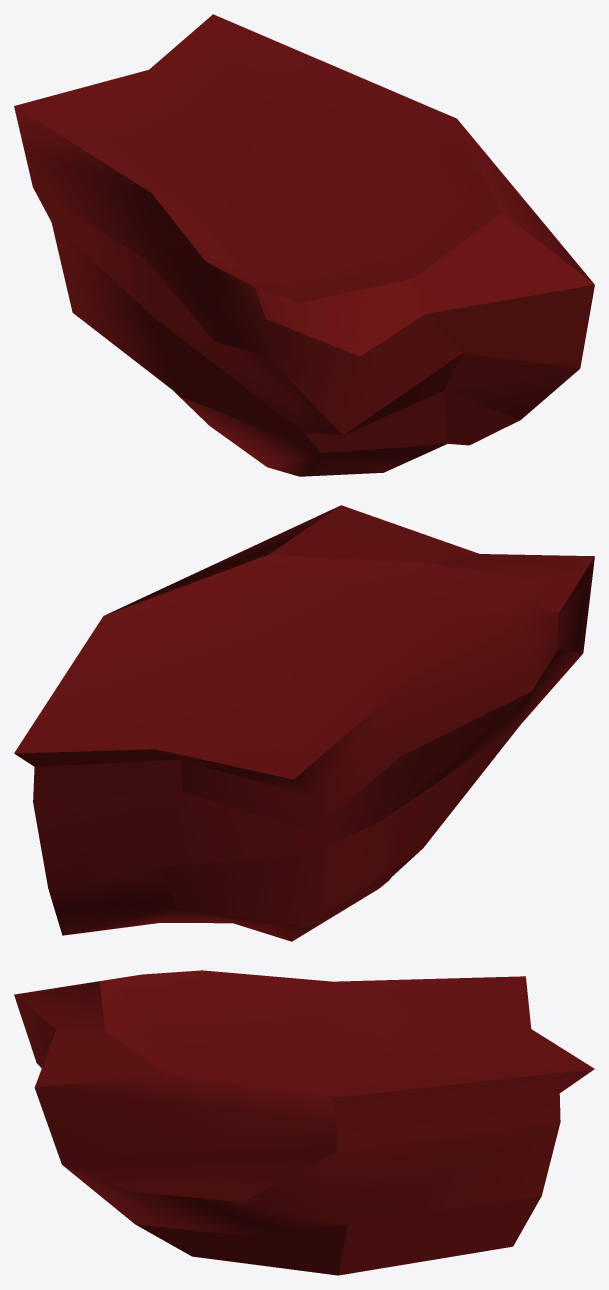
File: FloatEarth2.fbx
3 views of the same model, one above another, from view 1: azimuth 30°, elevation 25°; view 2: azimuth 150°, elevation 25°; view 3: azimuth 270°, elevation 25° (orthographic). The views are drawn at different scales.
Parts seen in each view (by area): view 1: FloatEarth2; view 2: FloatEarth2; view 3: FloatEarth2.
Part boxes in pixels (x1=…): FloatEarth2: x1=14, y1=14, x2=594, y2=476; FloatEarth2: x1=14, y1=505, x2=594, y2=941; FloatEarth2: x1=14, y1=970, x2=594, y2=1275.
Bounding box in the file's own units: 741 × 1302 × 498.
